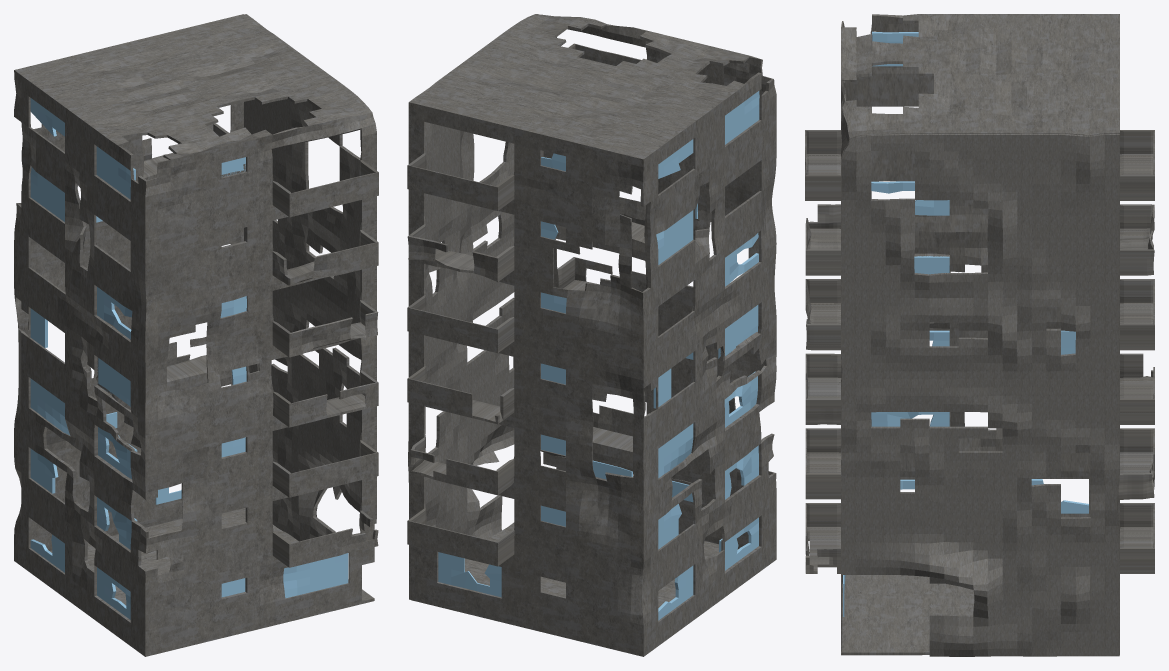
Rendered from Predio4.fbx.
3 renders of one model, left to right at view 1: azimuth 30°, elevation 25°; view 2: azimuth 150°, elevation 25°; view 3: azimuth 270°, elevation 25°, orthographic. The views are drawn at different scales.
Parts seen in each view (by area): view 1: Cube.001, Cube.002; view 2: Cube.001, Cube.002; view 3: Cube.001, Cube.002.
Boxes of the visible parts, left/top/right/bottom form: Cube.001: left=14, top=14, right=378, bottom=656; Cube.002: left=30, top=98, right=348, bottom=619; Cube.001: left=407, top=14, right=776, bottom=656; Cube.002: left=438, top=91, right=759, bottom=620; Cube.001: left=805, top=14, right=1154, bottom=656; Cube.002: left=843, top=31, right=1088, bottom=616.
Size of the model in its own units: 3366 by 6375 by 3863.
2 materials, 1 textured.
